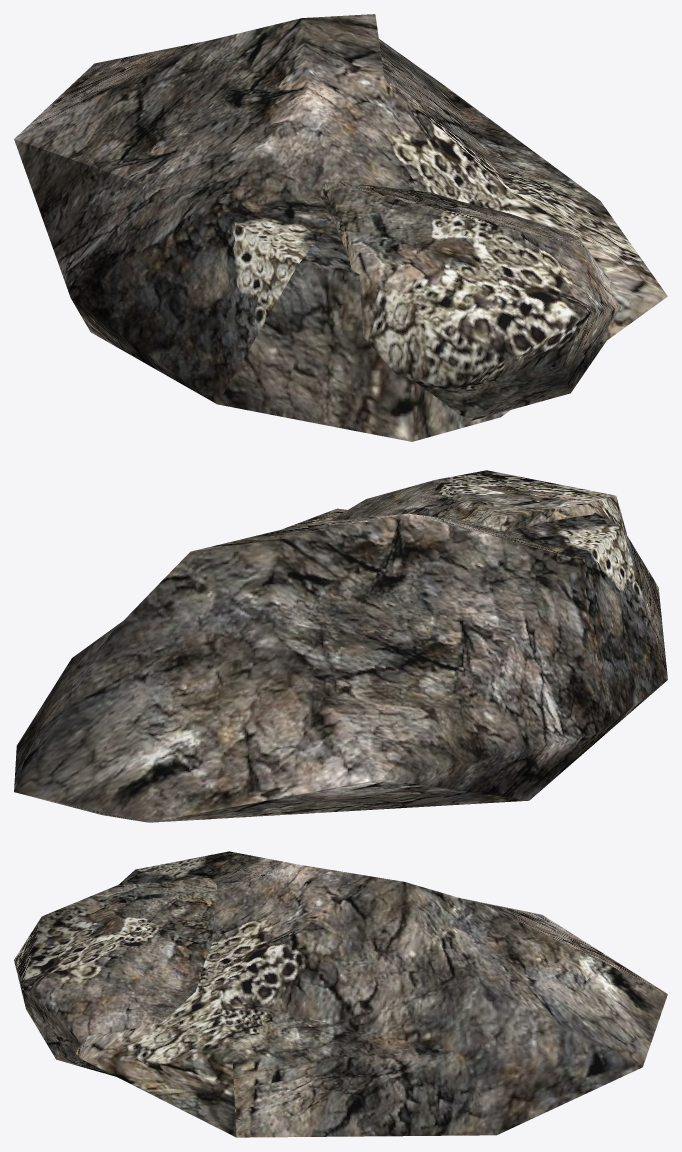
File: pir_m_prp_dvj_rockBare_f.fbx
3 renders of one model, top to bottom at view 1: azimuth 30°, elevation 25°; view 2: azimuth 150°, elevation 25°; view 3: azimuth 270°, elevation 25°, orthographic. The views are drawn at different scales.
Visible parts, largest first — view 1: rock, pasted__rock_7; view 2: rock, pasted__rock_7; view 3: rock, pasted__rock_7.
Part boxes in pixels (box(x1,y1,x2,y2)): rock: box(14, 14, 667, 441); pasted__rock_7: box(319, 182, 620, 421); rock: box(14, 508, 667, 822); pasted__rock_7: box(328, 470, 626, 534); rock: box(73, 851, 667, 1137); pasted__rock_7: box(14, 878, 217, 1076).
Size of the model in its own units: 545 by 275 by 813.
1 material, 1 textured.
